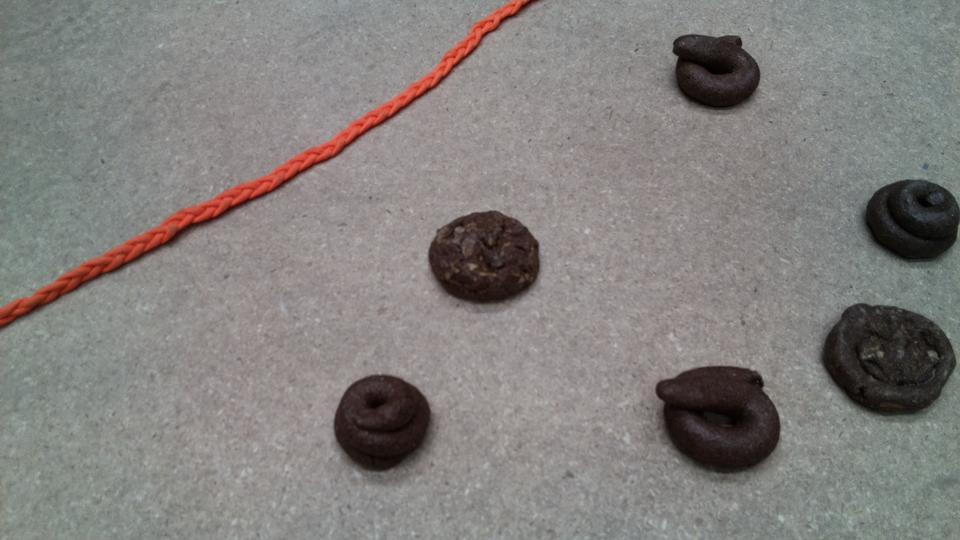poop: (818, 299, 956, 416), (652, 363, 785, 476), (426, 208, 543, 308), (332, 371, 434, 473), (864, 174, 960, 264), (670, 30, 761, 114)
rope: (1, 1, 514, 313)
